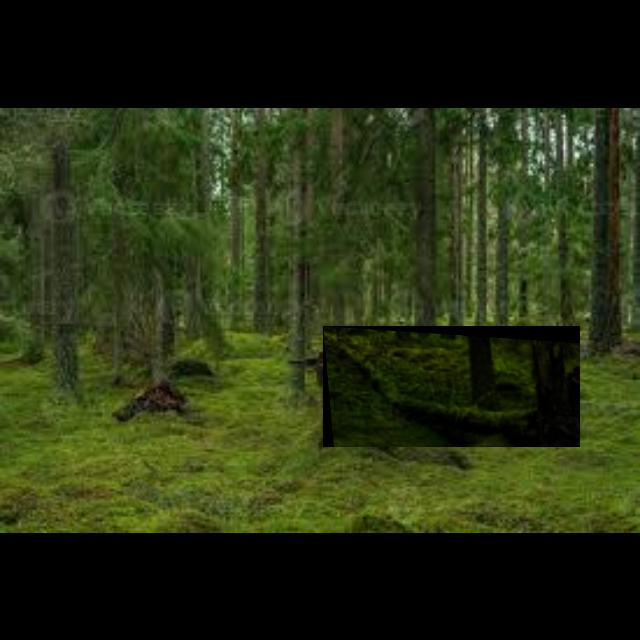Fallen Tree: (323, 326, 581, 448)
